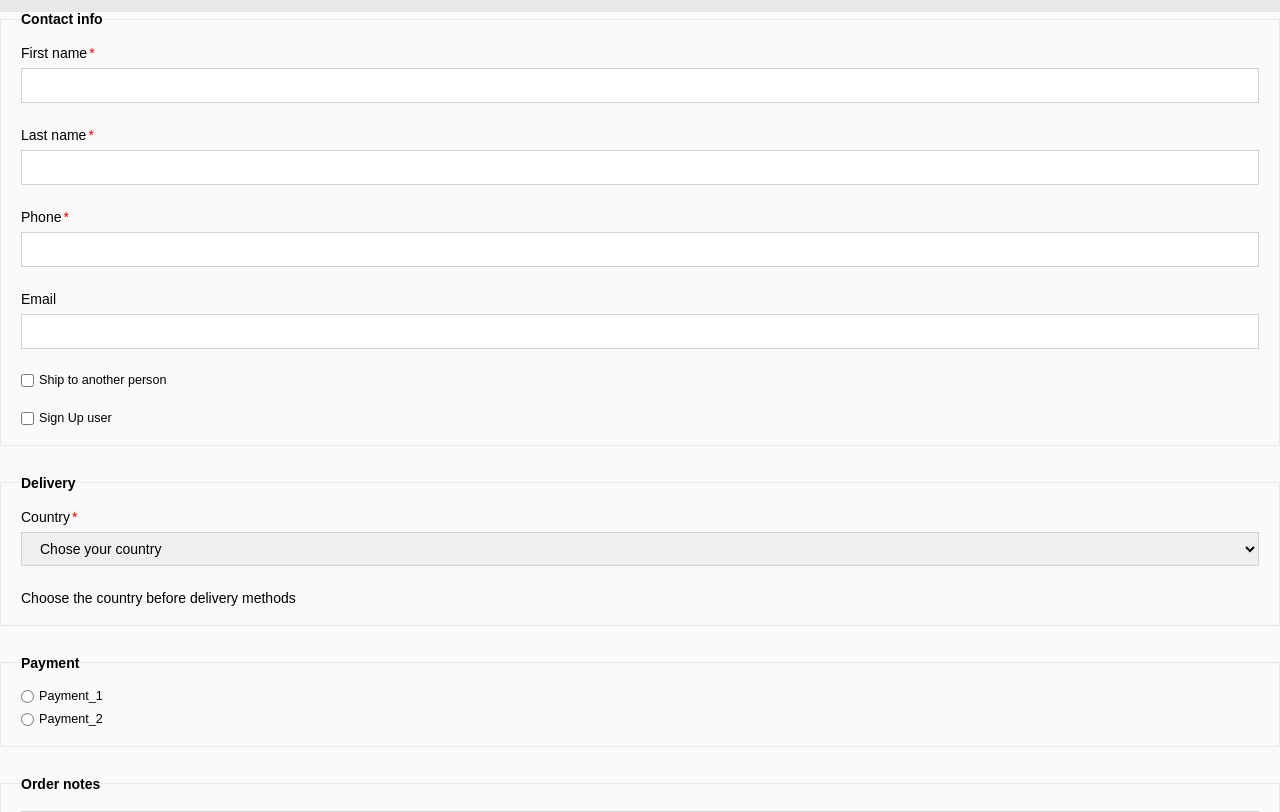
it: Checkout form › should show address filed
Select "Ukraine" in the dropdown labelled "Country" at x=640, y=549, box x1=22 y1=533 x2=1258 y2=565
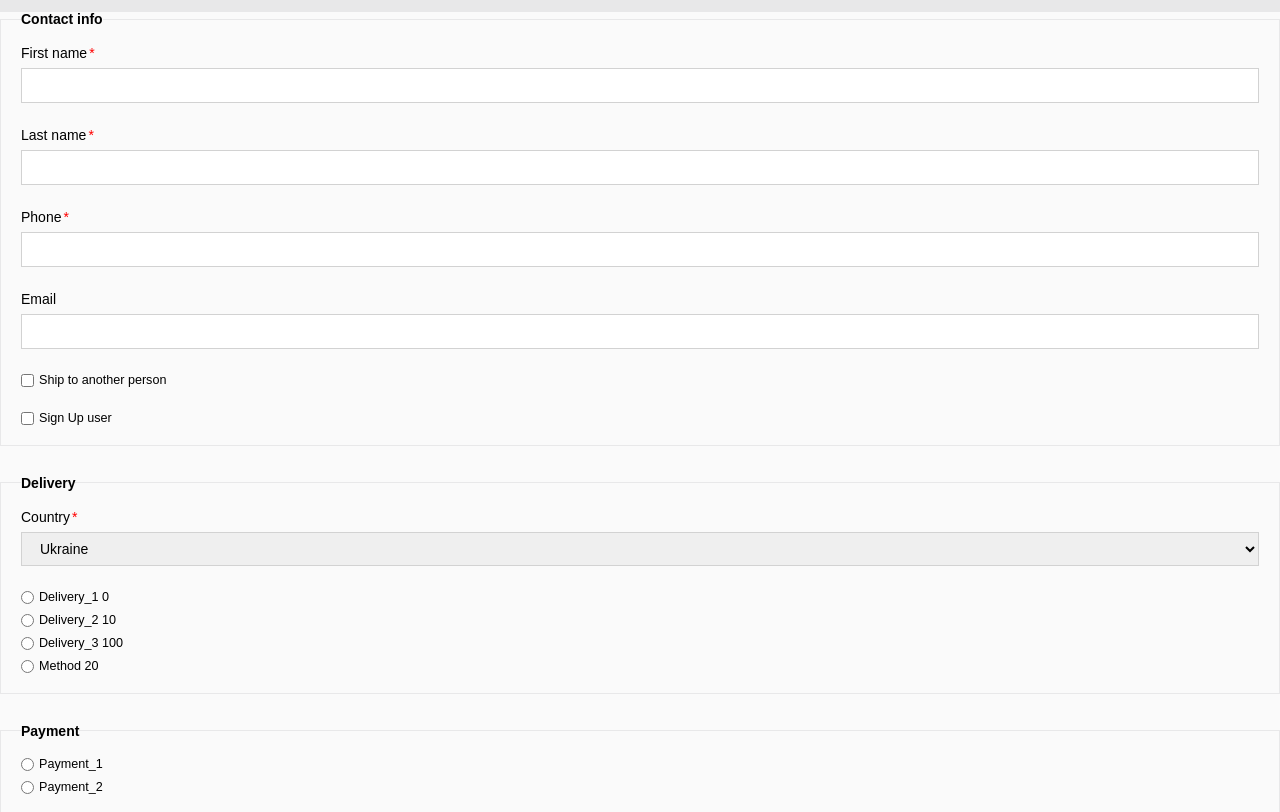
Expected: the field labelled "address" is not shown
Click the text "Method 20" at x=69, y=666, box x1=39 y1=659 x2=98 y2=673
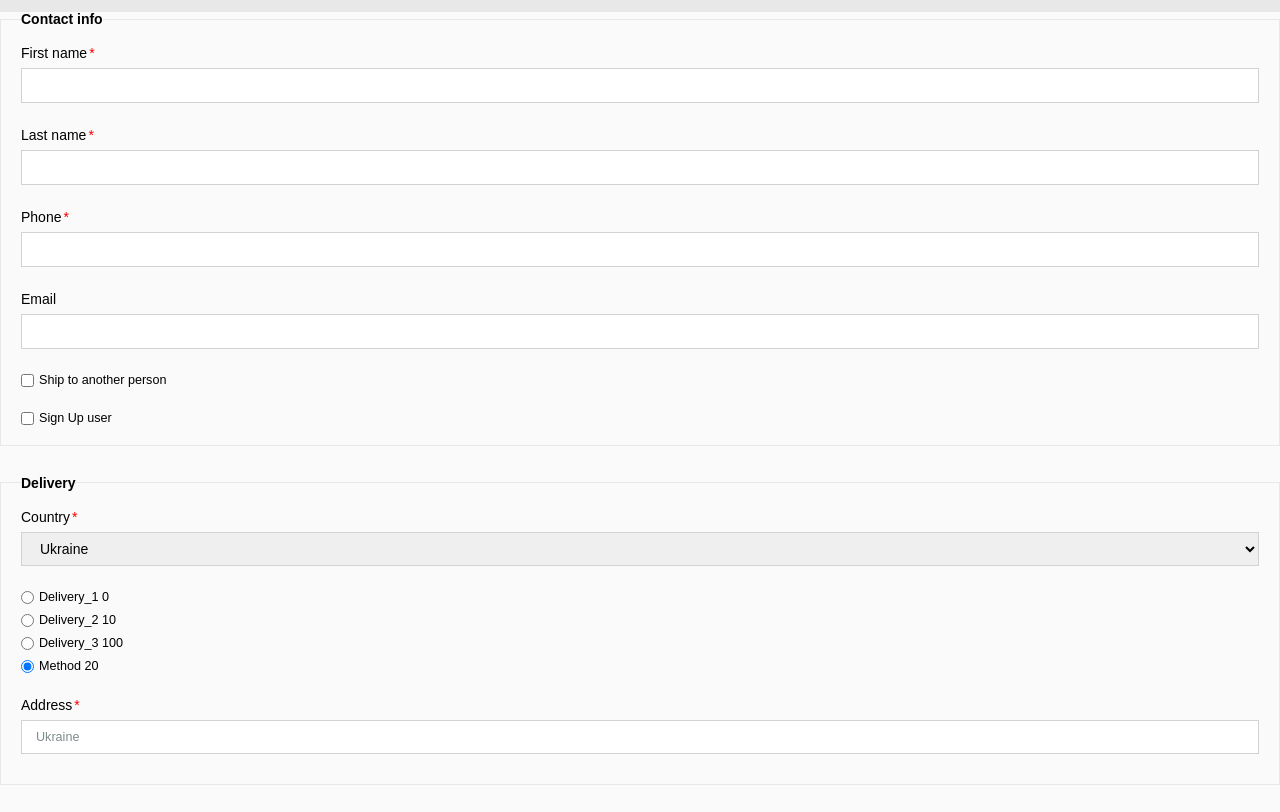
Expected: the field labelled "Address" is shown, x1=22 y1=721 x2=1258 y2=754
